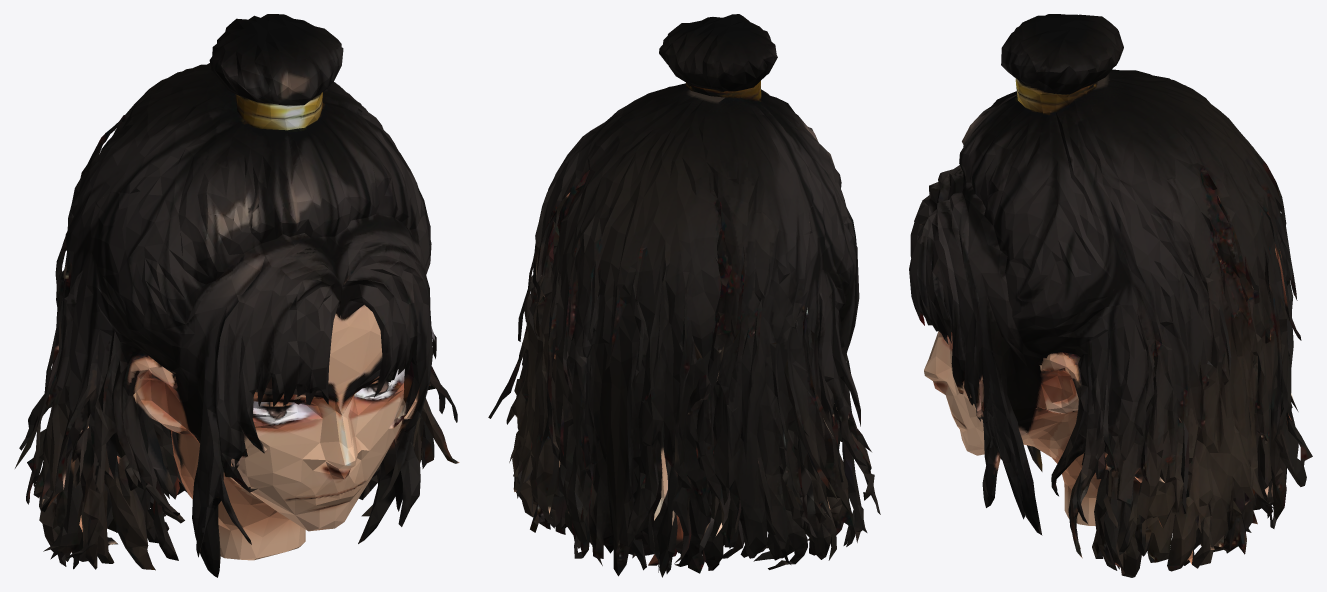
Rendered from side_kitsukiclerk_repaired_atlas.glb.
3 views of the same model, side by side, from view 1: azimuth 30°, elevation 25°; view 2: azimuth 150°, elevation 25°; view 3: azimuth 270°, elevation 25° (orthographic). The views are drawn at different scales.
Visible parts, largest first — view 1: temp_mesh.ply; view 2: temp_mesh.ply; view 3: temp_mesh.ply.
Boxes of the visible parts, bbox=[...] form: temp_mesh.ply: bbox=[15, 14, 459, 577]; temp_mesh.ply: bbox=[488, 14, 880, 577]; temp_mesh.ply: bbox=[909, 14, 1312, 577].
Bounding box in the file's own units: 1.52 × 1.97 × 1.46.
Materials: 1 (1 with a texture image).
